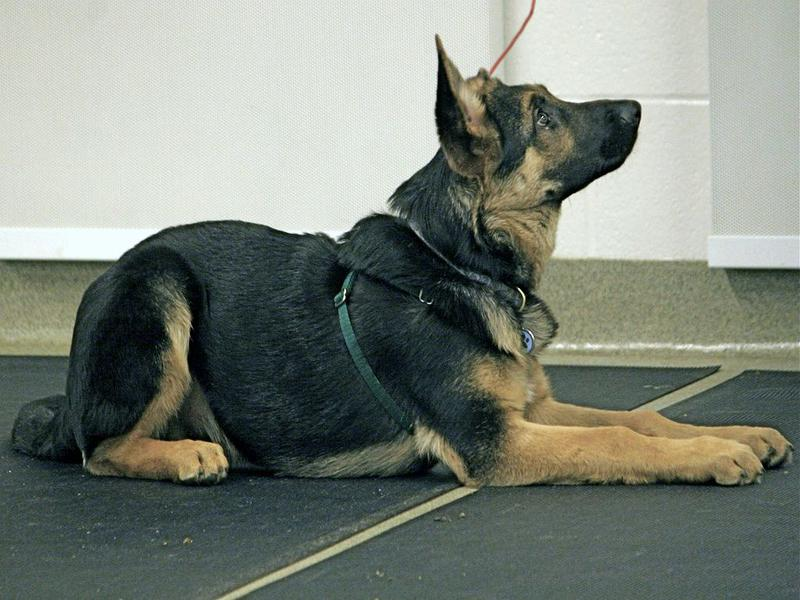dog_down: (13, 31, 796, 486)
